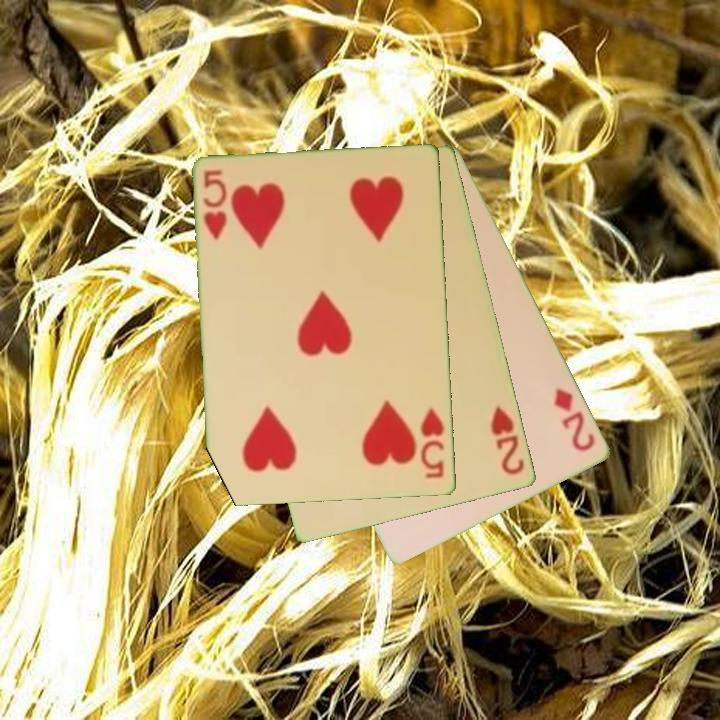2d: (550, 384, 599, 455)
2h: (487, 402, 528, 479)
5h: (417, 404, 447, 482), (200, 167, 230, 242)
